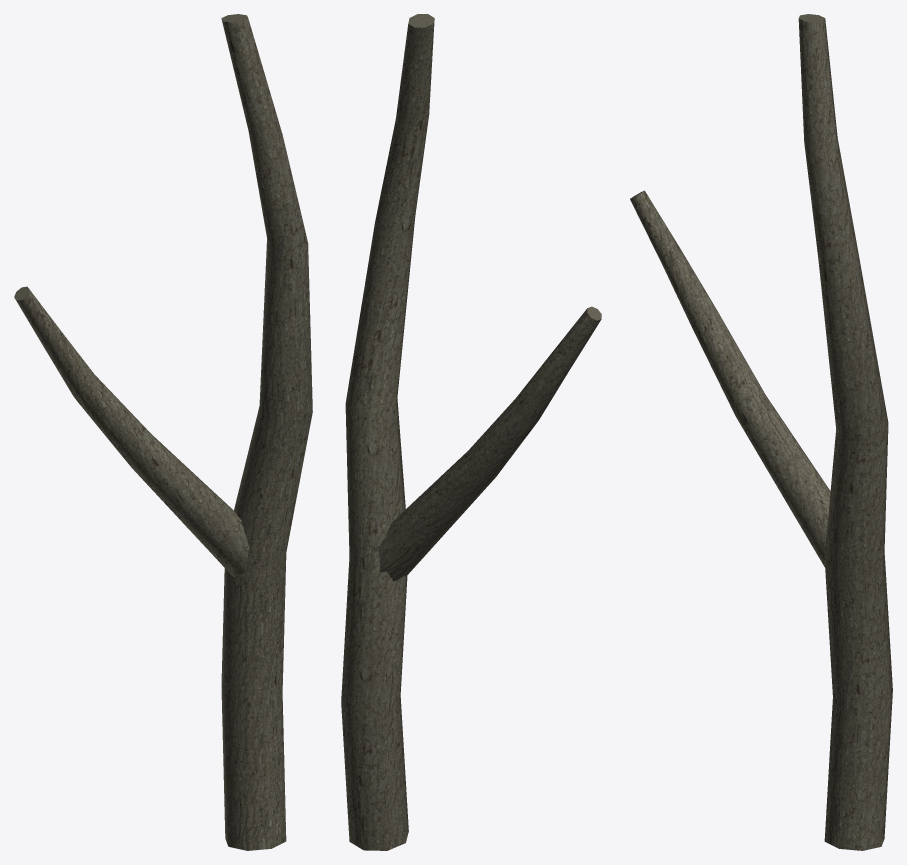
The model's file is broken_branch.glb.
3 views of the same model, side by side, from view 1: azimuth 30°, elevation 25°; view 2: azimuth 150°, elevation 25°; view 3: azimuth 330°, elevation 25° (orthographic). The views are drawn at different scales.
Parts seen in each view (by area): view 1: Cylinder; view 2: Cylinder; view 3: Cylinder.
Part boxes in pixels (<box>): Cylinder: <box>14,14,312,850</box>; Cylinder: <box>341,14,601,850</box>; Cylinder: <box>630,14,892,850</box>.
Size of the model in its own units: 0.7074 by 2.06 by 0.2511.
1 material, 1 textured.
